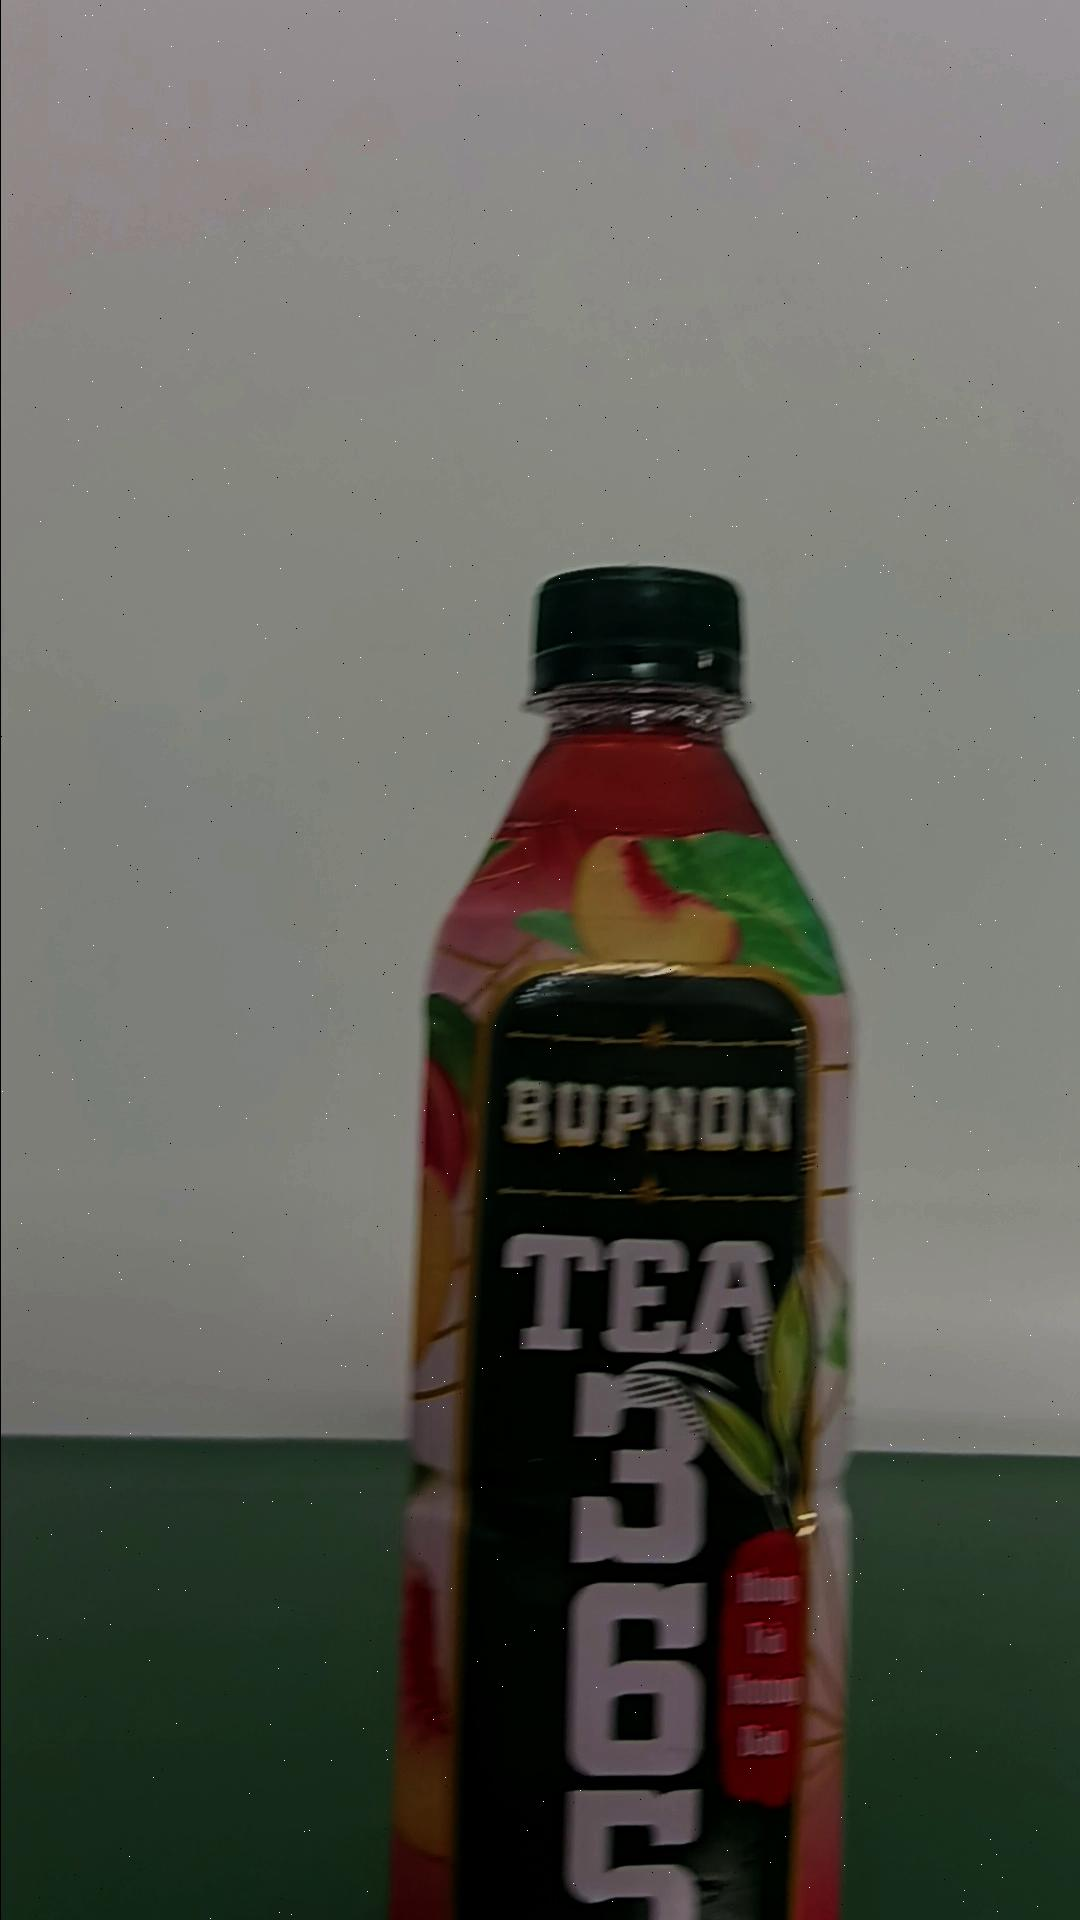khong loi: (389, 562, 860, 1915)
